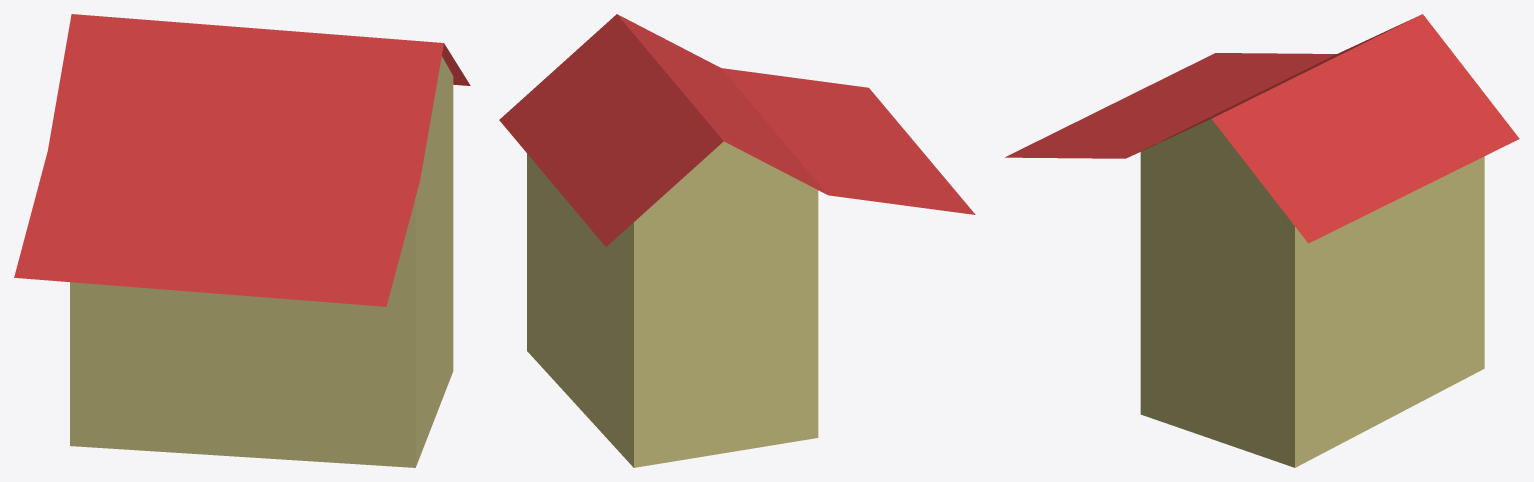
The picture shows the model from 3 angles, left to right: view 1: azimuth 30°, elevation 25°; view 2: azimuth 150°, elevation 25°; view 3: azimuth 270°, elevation 25°; orthographic projection. The views are drawn at different scales.
Size of the model in its own units: 10.23 by 10.39 by 7.23.
